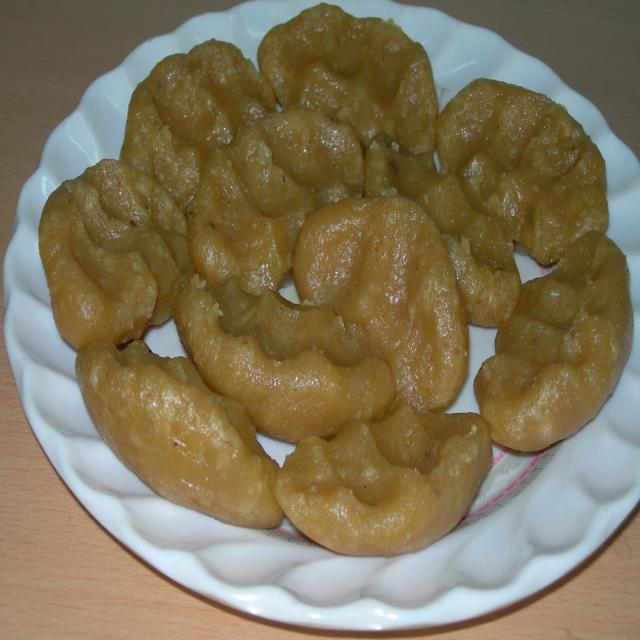pidi kolukattai: (39, 0, 609, 607)
